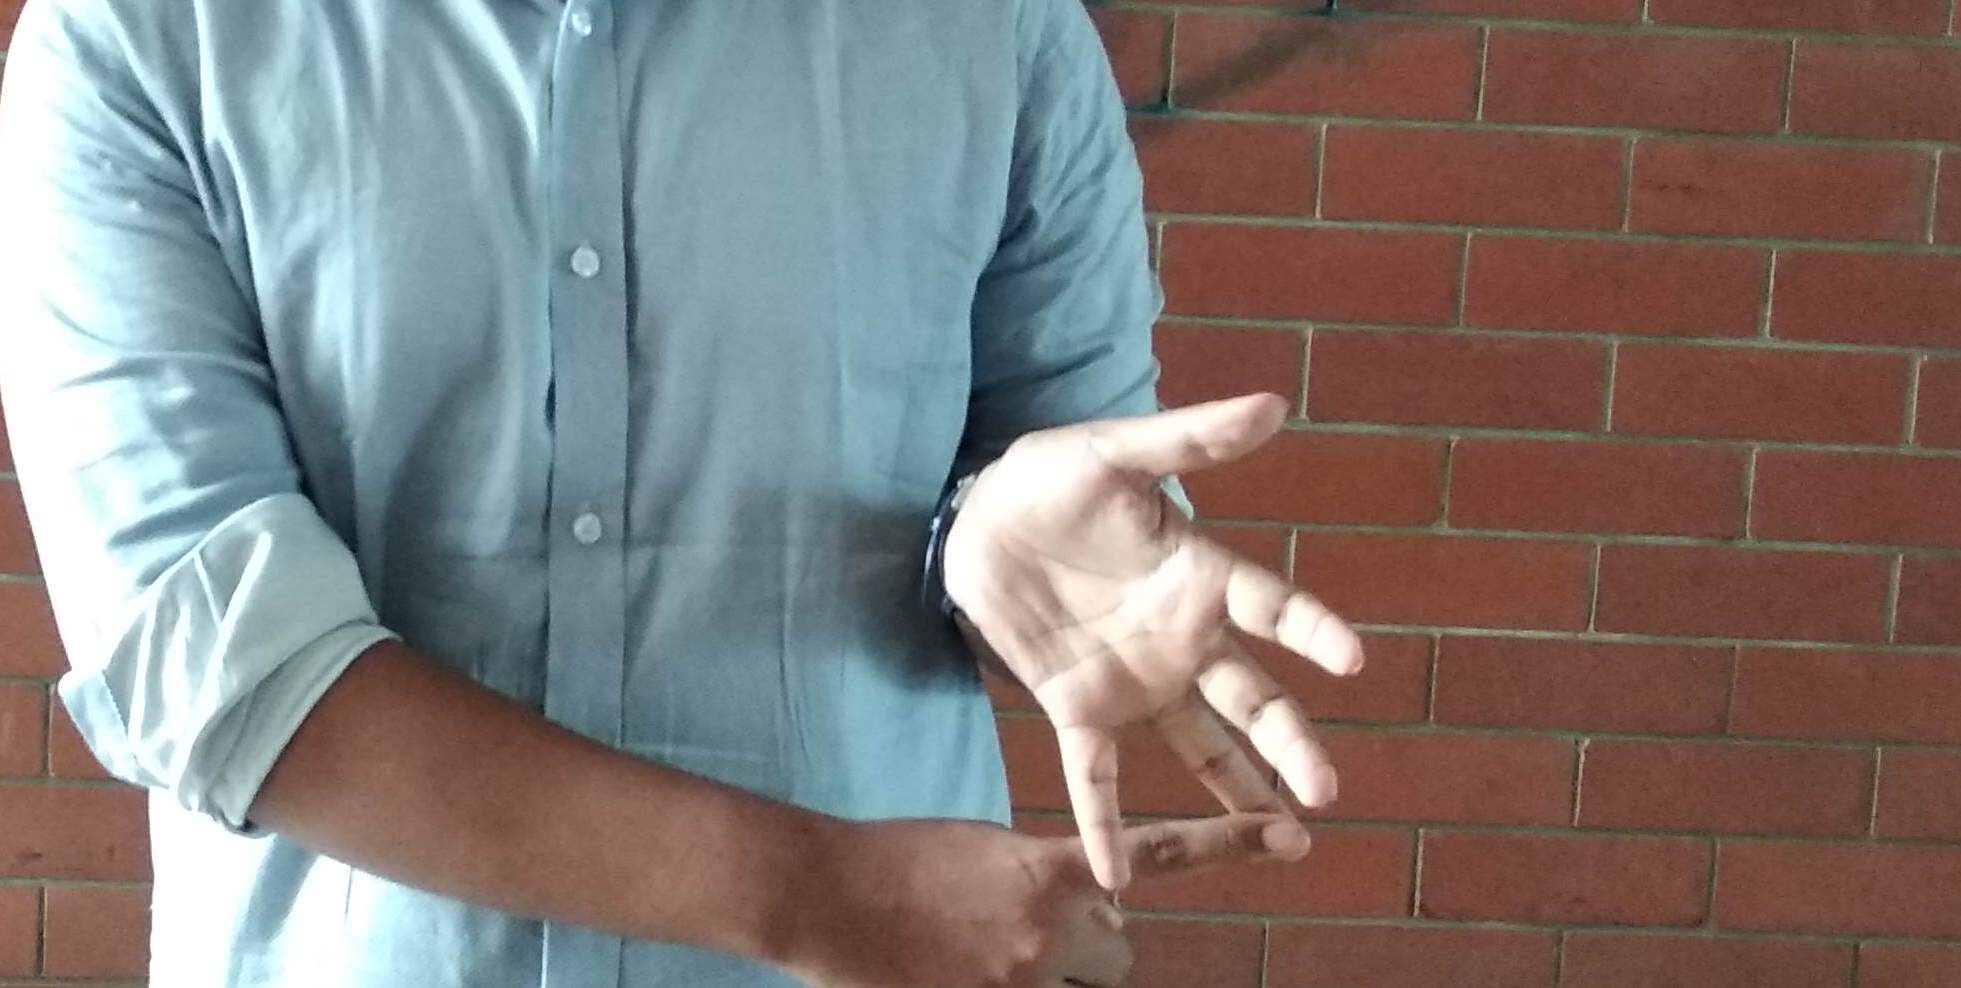e: (922, 495, 1389, 988)
